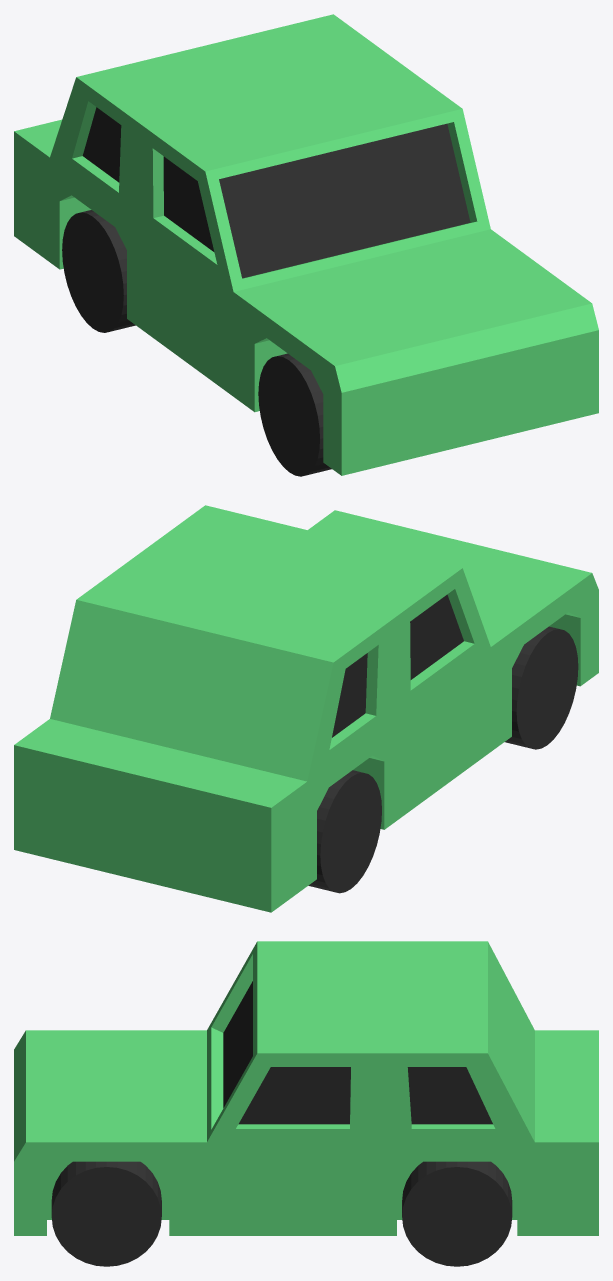
Rendered from boat.glb.
The picture shows the model from 3 angles, top to bottom: view 1: azimuth 30°, elevation 25°; view 2: azimuth 150°, elevation 25°; view 3: azimuth 270°, elevation 25°; orthographic projection. The views are drawn at different scales.
Parts seen in each view (by area): view 1: Cube; view 2: Cube; view 3: Cube.
Part boxes in pixels (x1=…): Cube: x1=14, y1=14, x2=598, y2=476; Cube: x1=14, y1=505, x2=598, y2=912; Cube: x1=14, y1=941, x2=598, y2=1266.
Size of the model in its own units: 1.62 by 1.44 by 3.57.
